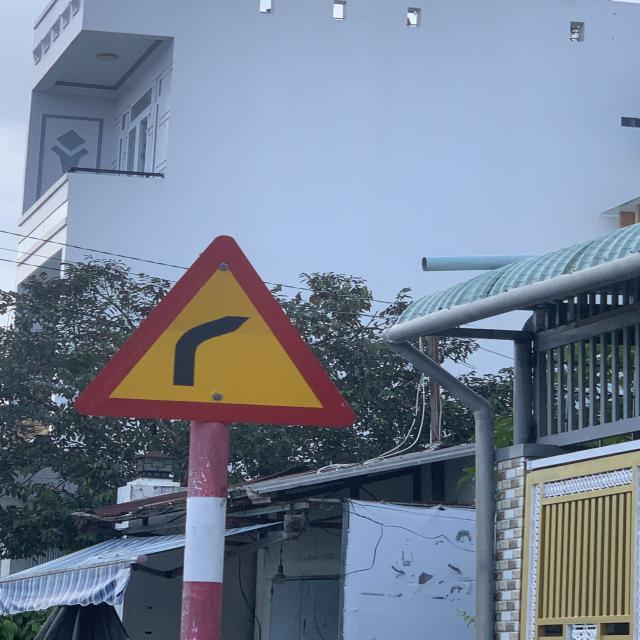Duong_Nguoi_Di_Bo_Cat_Ngang: (75, 235, 354, 426)
